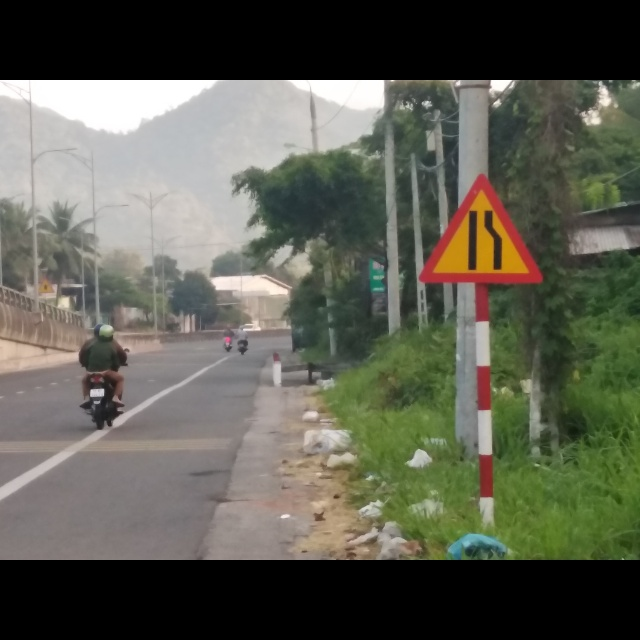Đường bị hẹp bên phải: (418, 172, 546, 284)
